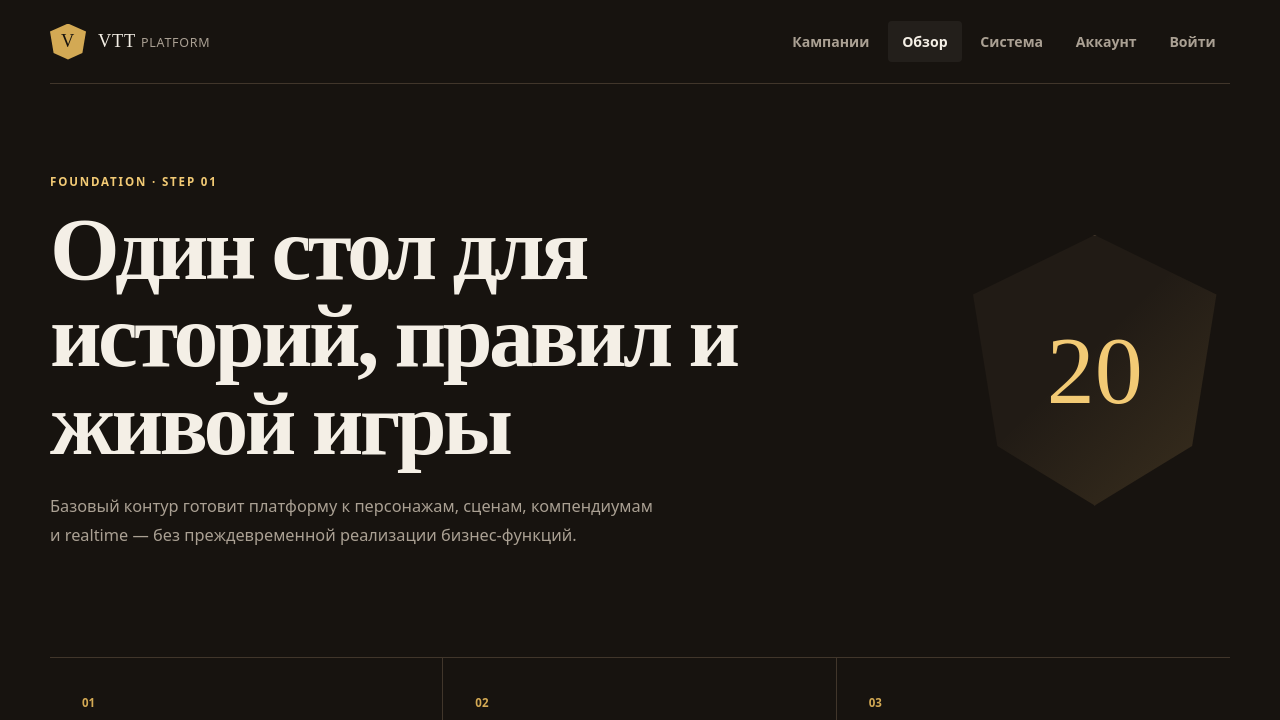
Test: application shell › navigates to diagnostics and reports Edge readiness
Step 1. Click the link "Система" → (1012, 42), box x1=980 y1=32 x2=1043 y2=51
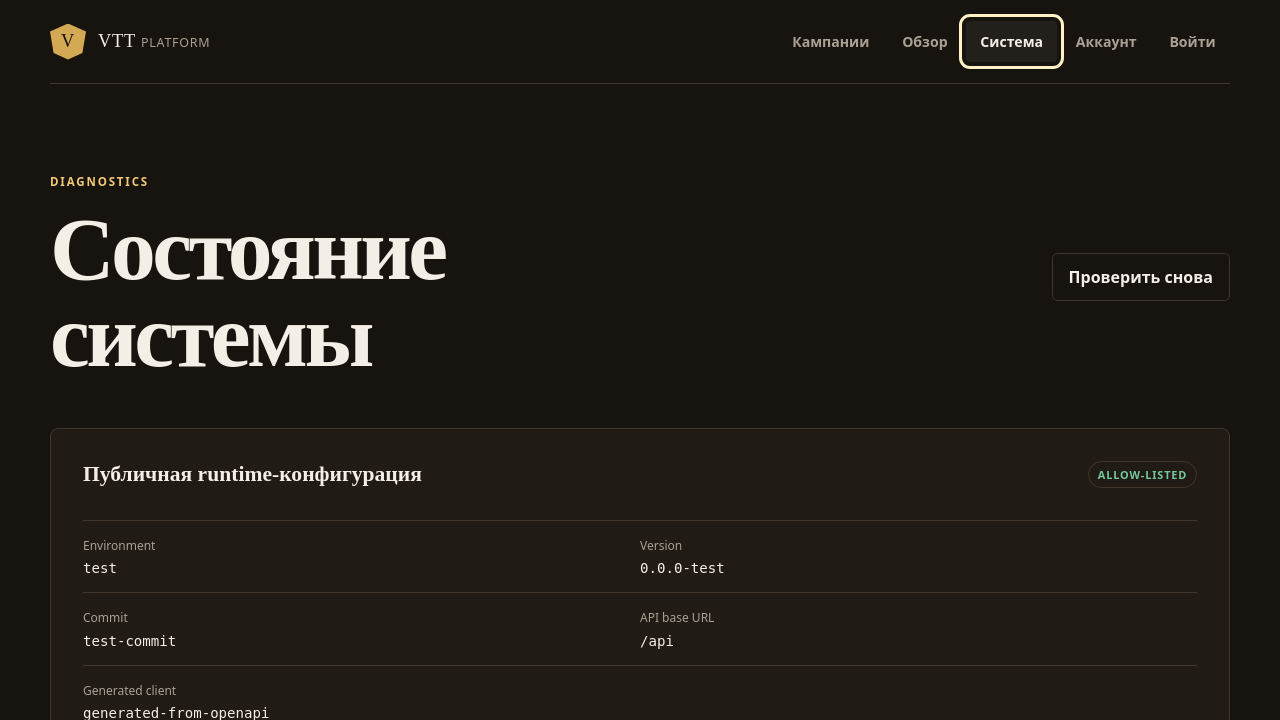
expect the text "test-commit" is shown: met, box x1=83 y1=633 x2=176 y2=649
